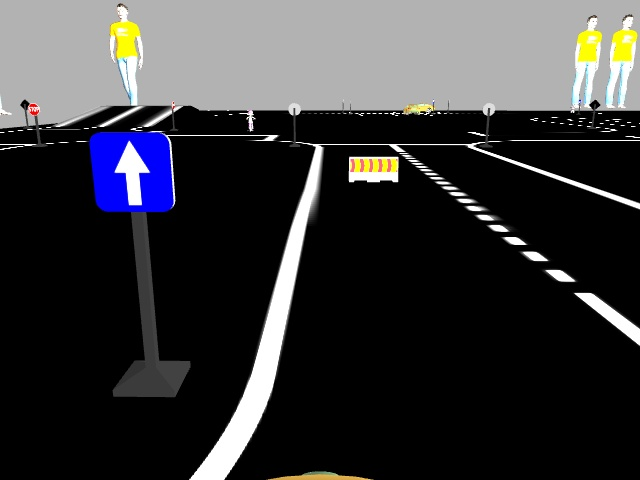ClosedRoadStand: (349, 156, 398, 180)
OneWay: (91, 132, 174, 210)
